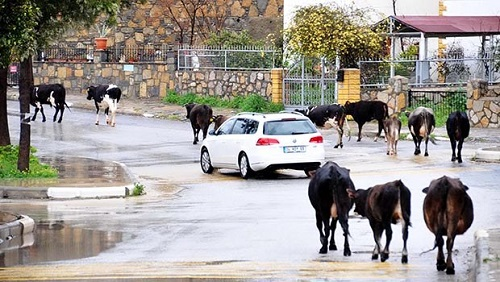inek: (424, 175, 483, 282), (358, 182, 416, 277), (299, 165, 353, 259), (81, 79, 126, 135), (23, 85, 76, 132), (300, 97, 349, 147), (407, 89, 438, 162), (445, 106, 475, 178), (175, 99, 213, 152), (355, 91, 385, 148), (378, 115, 407, 155)
